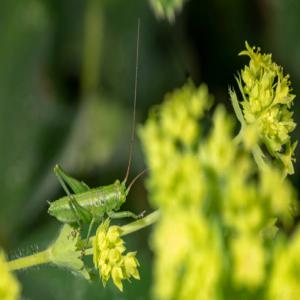locust: (38, 145, 152, 240)
